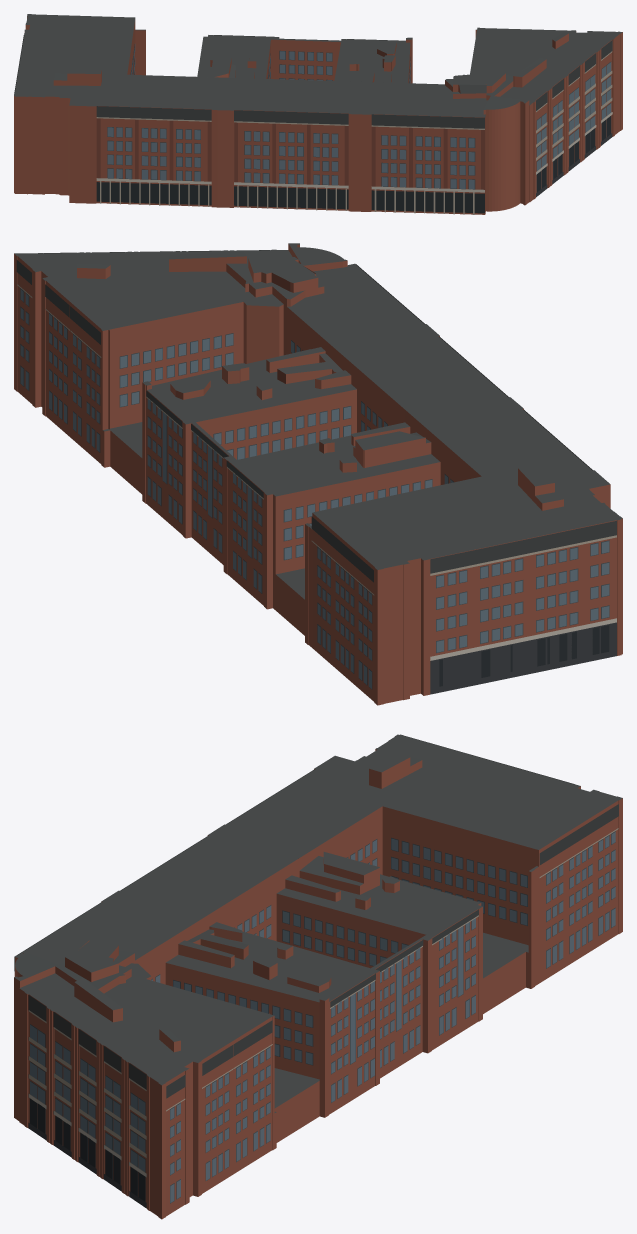
Rendered from jodenbreestraat-11.glb.
3 views of the same model, one above another, from view 1: azimuth 30°, elevation 25°; view 2: azimuth 150°, elevation 25°; view 3: azimuth 270°, elevation 25° (orthographic). The views are drawn at different scales.
Visible parts, largest first — view 1: jodenbreestraat-11; view 2: jodenbreestraat-11; view 3: jodenbreestraat-11.
Boxes of the visible parts, x1,y1,x2,y2 form: jodenbreestraat-11: [14, 14, 622, 214]; jodenbreestraat-11: [14, 243, 622, 705]; jodenbreestraat-11: [14, 734, 622, 1219].
Size of the model in its own units: 129 by 25.9 by 94.22.
